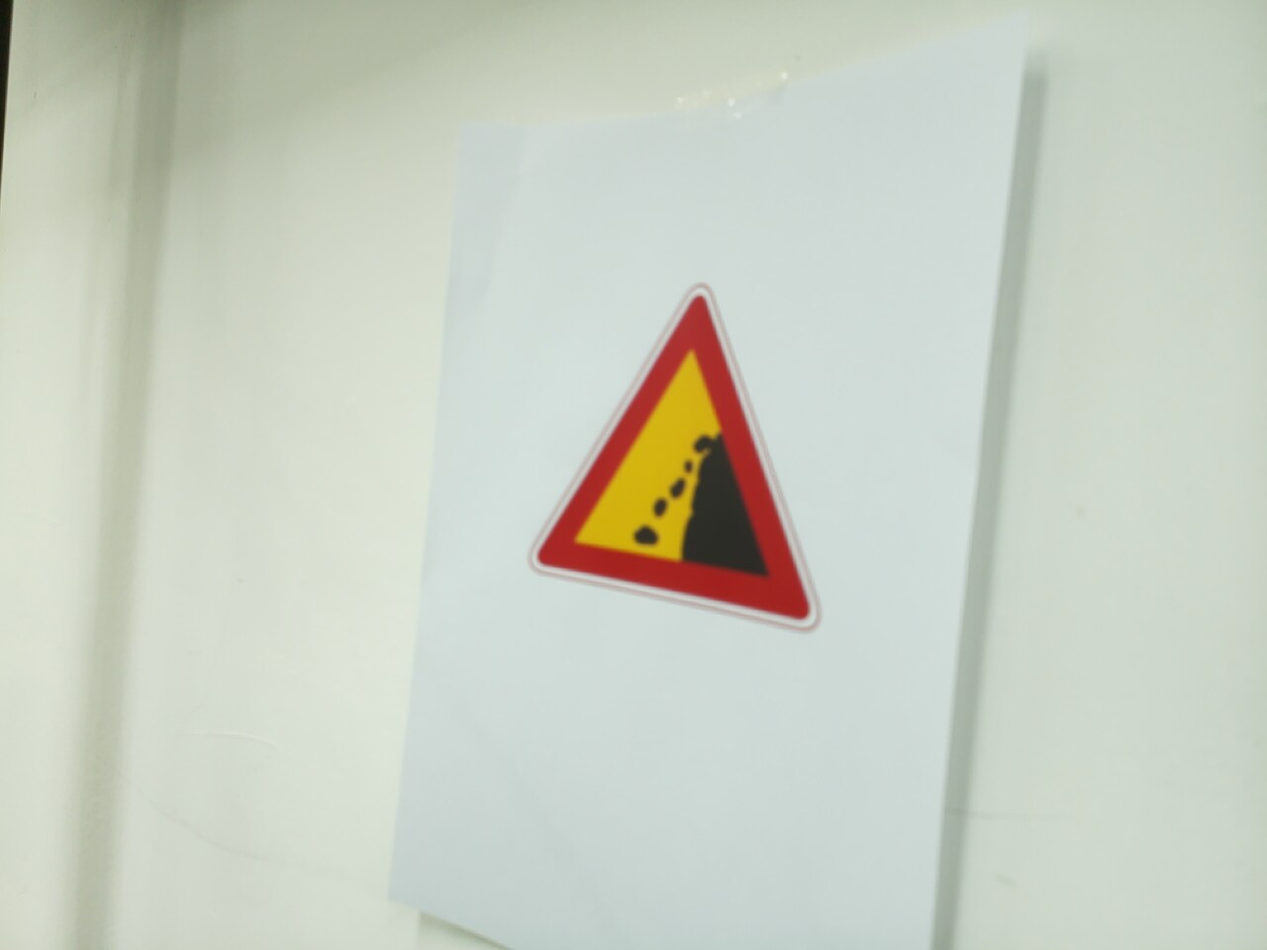falling_rocks: (529, 286, 819, 629)
